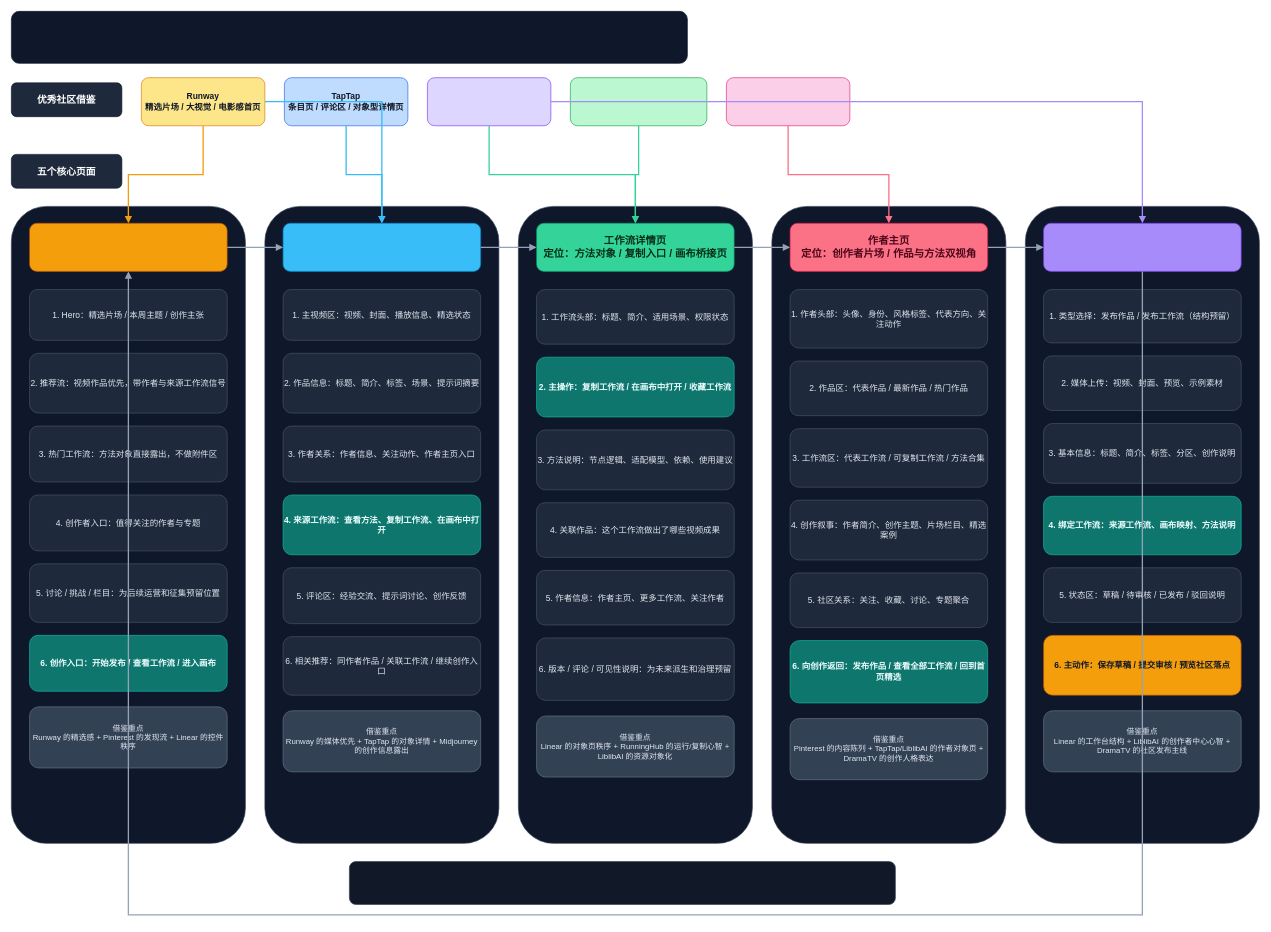
Some shapes in this 1271 by 932 pixel diagram are drawn without their labels. The shapes that lost their labels are listed below. From the top down, each one's centre as x and y in pixels, then its label:
At point 349,37: "DramaTV 社区页面规划图 先看优秀社区借鉴，再看五个核心页面的结构规划".
At point 489,101: "LiblibAI 作品 + 工作流 + 创作者中心".
At point 638,101: "RunningHub 工作流可运行 / 可复制 / 可接画布".
At point 788,101: "Pinterest 发现流 / 陈列感 / 作品浏览节奏".
At point 128,247: "社区首页 定位：精选片场 + 推荐流 + 发现入口".
At point 381,247: "视频详情页 定位：作品主视觉 + 来源工作流 + 社区讨论".
At point 1142,247: "发布页 定位：创作者工作台 / 发布中心".
At point 622,882: "用户主路径 首页发现作品 -> 进入视频详情 -> 查看来源工作流 -> 进入作者主页 -> 创作者继续发布".
